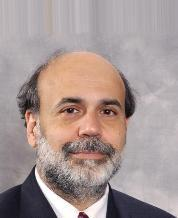face: (59, 95, 119, 164)
